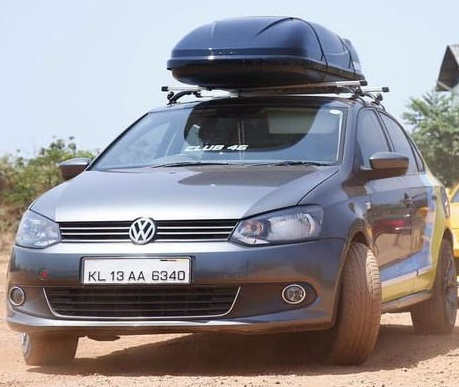KL13AA6340: (85, 257, 191, 285)
